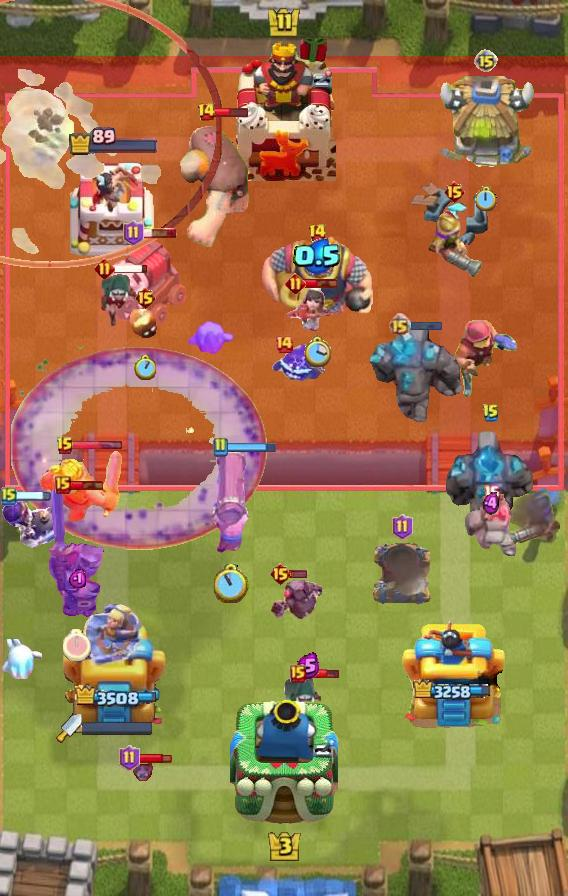balloon: (179, 110, 255, 250)
bar: (59, 595, 169, 731)
barbarian-barrel: (130, 755, 156, 783)
bat: (0, 639, 42, 679)
battle-healer: (208, 450, 254, 554)
battle-ram: (268, 575, 328, 623)
bomb-tower: (425, 209, 483, 279), (500, 487, 562, 551)
bomber: (130, 309, 160, 341)
cannoneer-tower: (367, 324, 465, 426), (446, 428, 536, 532)
electro-spirit: (293, 237, 343, 274), (296, 652, 320, 680), (483, 492, 499, 516), (69, 568, 87, 588)
elixir: (215, 565, 250, 604), (303, 335, 331, 369), (63, 629, 91, 661), (134, 355, 156, 380), (476, 185, 497, 210)
emote: (225, 442, 277, 454), (71, 441, 123, 452), (304, 667, 340, 680), (15, 490, 52, 502), (141, 227, 177, 239), (303, 277, 339, 289), (408, 319, 444, 331), (69, 479, 105, 491), (215, 106, 250, 118), (137, 752, 172, 764), (111, 262, 148, 273), (288, 569, 308, 579)
fireball: (452, 320, 520, 400)
giant-skeleton: (259, 232, 375, 322)
goblin-ball: (0, 497, 62, 549)
goblin-hut: (37, 446, 123, 524)
golem: (103, 237, 187, 327)
king-tower: (232, 39, 336, 181), (230, 698, 338, 826)
king-tower-bar: (82, 721, 154, 735)
mirror: (186, 320, 236, 358)
musketeer: (370, 541, 434, 607)
prince: (435, 76, 537, 172)
queen-tower: (399, 617, 507, 731), (70, 154, 158, 256)
rocket: (11, 346, 267, 550)
royal-ghost: (0, 0, 222, 268)
selected: (68, 127, 160, 156), (413, 679, 493, 703), (72, 685, 155, 708)
skeleton-dragon: (283, 282, 333, 334)
spear-goblin: (272, 343, 328, 383)
tesla: (282, 674, 334, 728), (97, 274, 141, 330)
text: (474, 49, 498, 73), (443, 180, 466, 204), (134, 286, 157, 310), (388, 312, 411, 336), (269, 562, 292, 586), (123, 220, 144, 246), (392, 514, 413, 540), (119, 745, 140, 771), (94, 257, 115, 279), (286, 273, 307, 294), (196, 102, 216, 122), (274, 334, 294, 354), (308, 223, 327, 243), (482, 403, 500, 423), (56, 436, 74, 456), (483, 484, 501, 503), (212, 437, 228, 457), (1, 486, 17, 506), (55, 476, 71, 494), (290, 665, 306, 683)
valkyrie-evolution: (462, 494, 520, 558)
wall-breaker-evolution: (45, 487, 109, 621)
